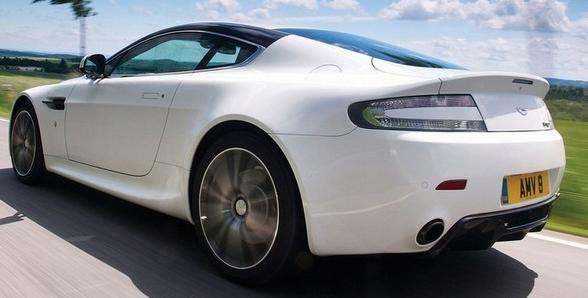back_view: (307, 57, 569, 254)
backlight: (342, 92, 492, 137)
side_glass: (84, 28, 263, 80)
